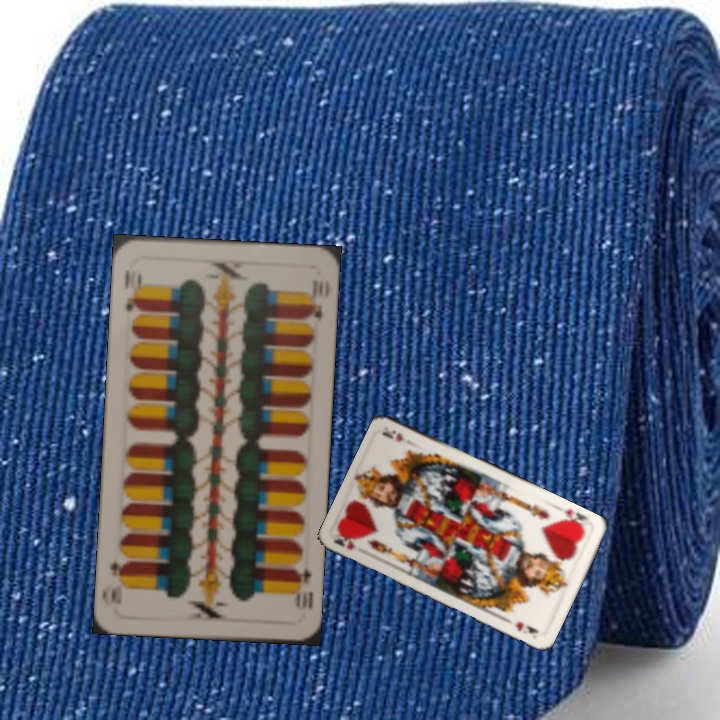E10: (288, 563, 314, 610), (120, 266, 145, 314)
HK: (556, 505, 591, 534), (330, 528, 359, 553)
